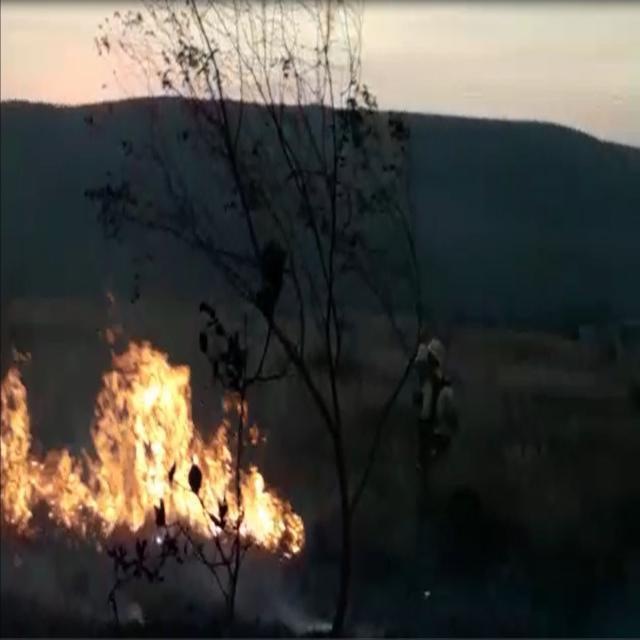Fire: (3, 336, 305, 558)
